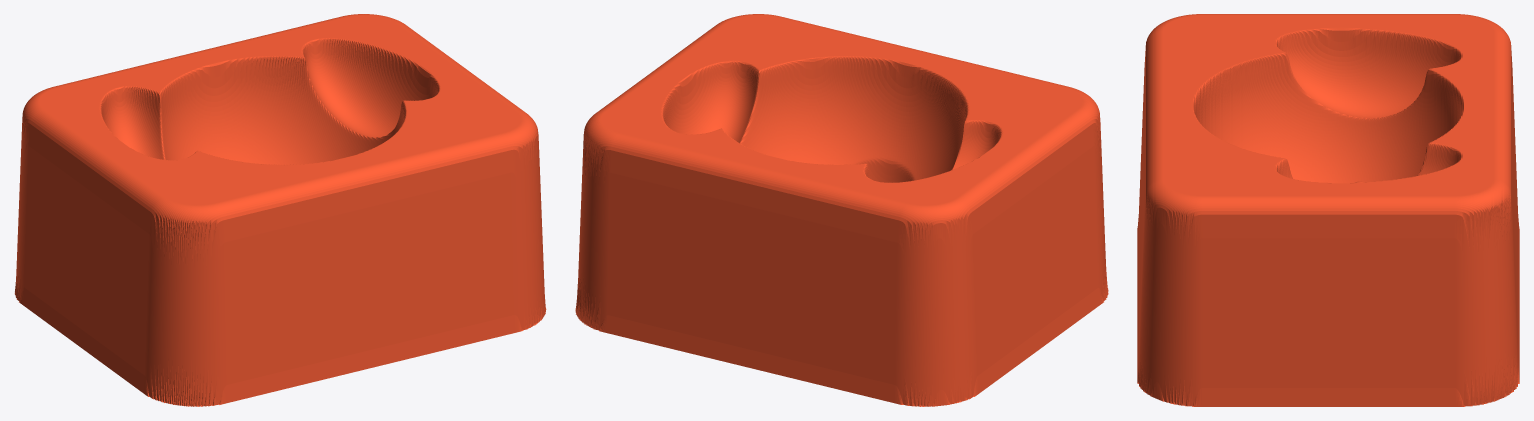
File: mold.glb
3 views of the same model, side by side, from view 1: azimuth 30°, elevation 25°; view 2: azimuth 150°, elevation 25°; view 3: azimuth 270°, elevation 25° (orthographic). The views are drawn at different scales.
Parts seen in each view (by area): view 1: geometry_0; view 2: geometry_0; view 3: geometry_0.
Boxes of the visible parts, x1=… form: geometry_0: x1=14, y1=14, x2=546, y2=406; geometry_0: x1=575, y1=14, x2=1108, y2=406; geometry_0: x1=1137, y1=14, x2=1519, y2=406.
Bounding box in the file's own units: 0.067 × 0.031 × 0.0536.
